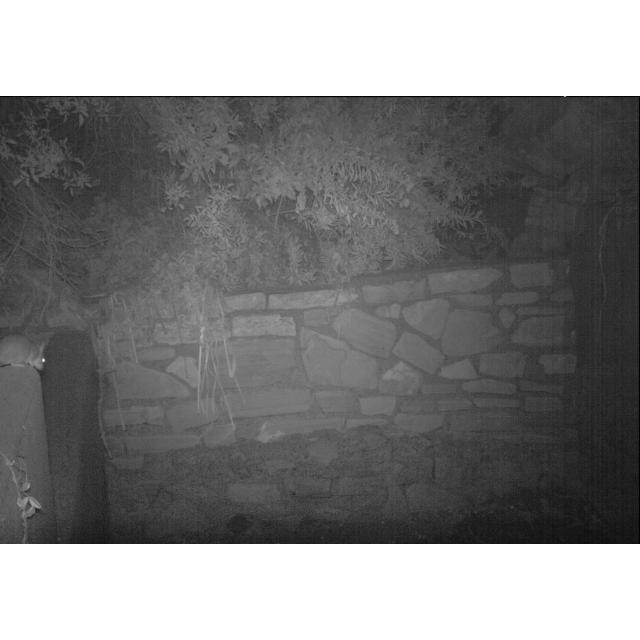animals: (0, 332, 56, 372)
